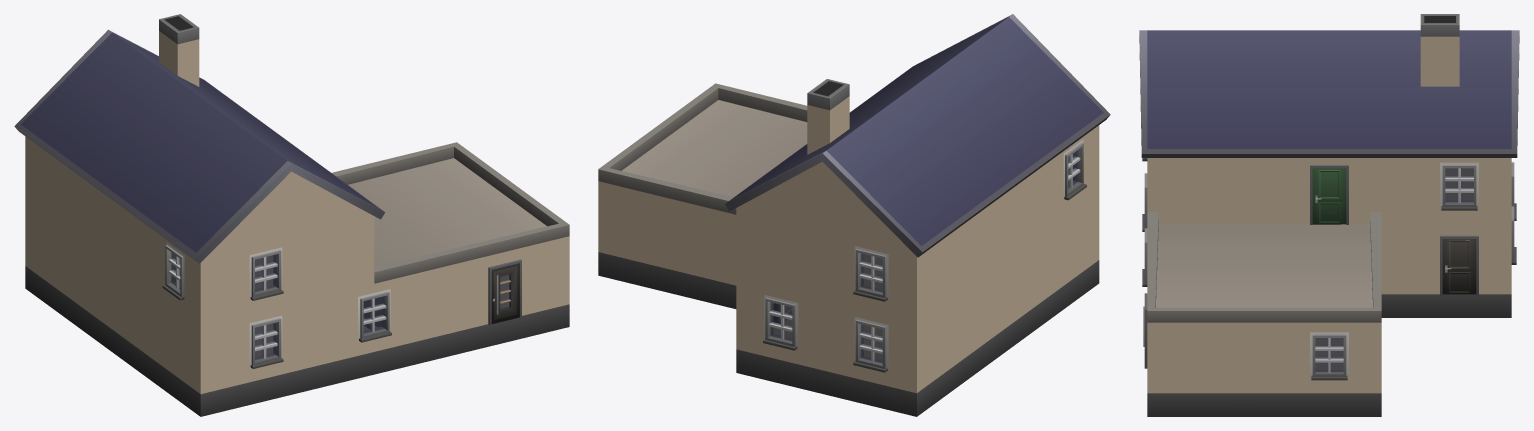
The model's file is rumah-warga3.glb.
3 views of the same model, side by side, from view 1: azimuth 30°, elevation 25°; view 2: azimuth 150°, elevation 25°; view 3: azimuth 270°, elevation 25° (orthographic). The views are drawn at different scales.
Parts seen in each view (by area): view 1: Object_2, Object_3; view 2: Object_2, Object_3; view 3: Object_2, Object_3.
Boxes of the visible parts, <box> form: Object_2: <box>14,14,569,416</box>; Object_3: <box>171,252,510,359</box>; Object_2: <box>598,14,1110,416</box>; Object_3: <box>770,150,1077,362</box>; Object_2: <box>1139,14,1519,416</box>; Object_3: <box>1315,168,1473,371</box>.
Size of the model in its own units: 17.58 by 11.5 by 14.62.
Materials: 2 (1 with a texture image).
